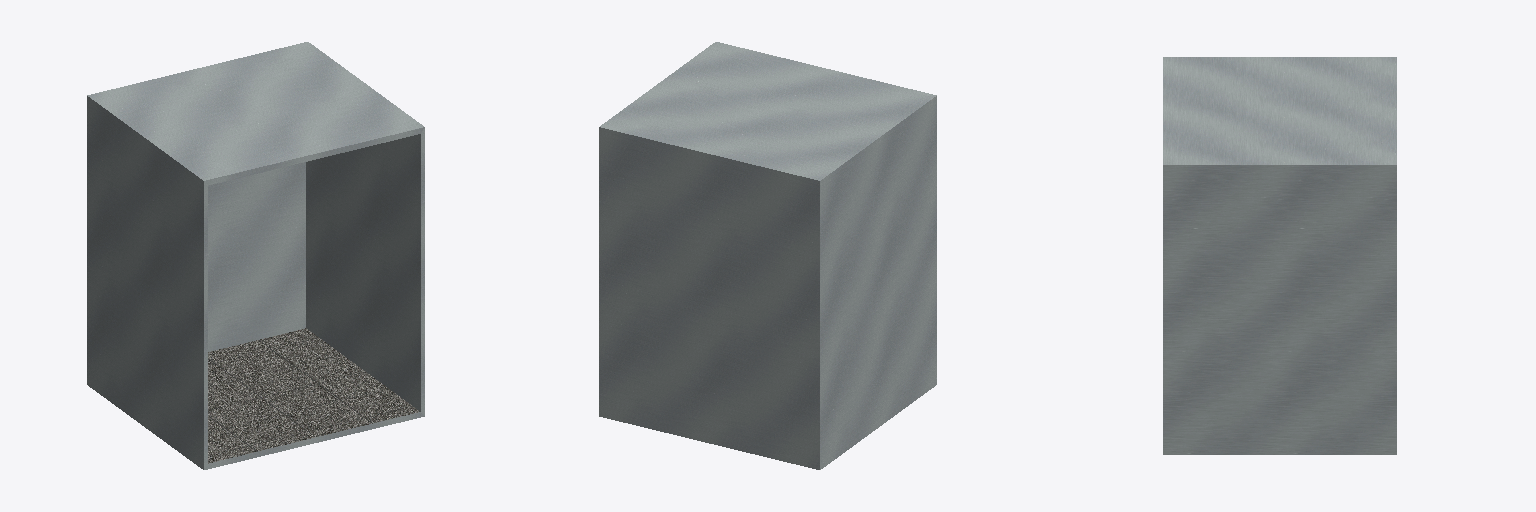
3 views of the same model, side by side, from view 1: azimuth 30°, elevation 25°; view 2: azimuth 150°, elevation 25°; view 3: azimuth 270°, elevation 25° (orthographic).
Parts seen in each view (by area): view 1: Elevator_mesh; view 2: Elevator_mesh; view 3: Elevator_mesh.
Part boxes in pixels (bbox=[...]): Elevator_mesh: bbox=[87, 42, 424, 469]; Elevator_mesh: bbox=[599, 42, 936, 469]; Elevator_mesh: bbox=[1163, 57, 1396, 454].
Bounding box in the file's own units: 2.4 × 3 × 2.2.
Materials: 4 (3 with a texture image).